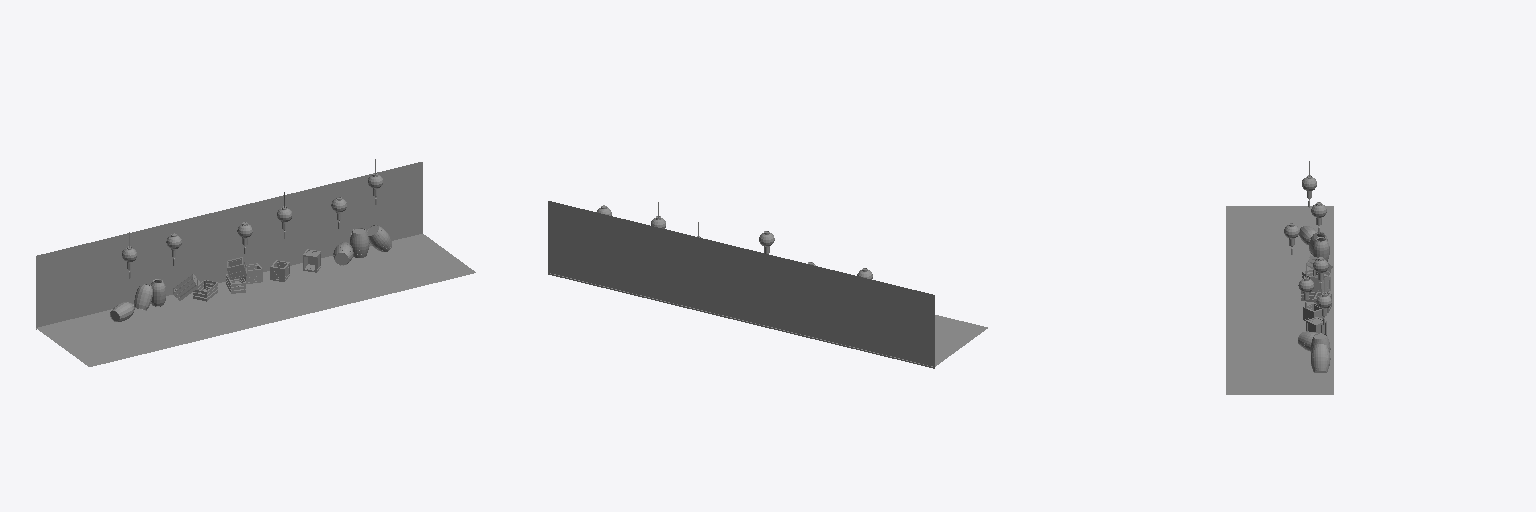
The model's file is escenario1.obj.
3 views of the same model, side by side, from view 1: azimuth 30°, elevation 25°; view 2: azimuth 150°, elevation 25°; view 3: azimuth 270°, elevation 25° (orthographic).
Visible parts, largest first — view 1: pPlane1, pPlane2; view 2: pPlane1, pPlane2; view 3: pPlane2.
Boxes of the visible parts, box(x1,y1,x2,y2) form: pPlane1: box(36, 162, 422, 329); pPlane2: box(36, 234, 475, 366); pPlane1: box(548, 201, 934, 368); pPlane2: box(550, 273, 987, 366); pPlane2: box(1226, 206, 1333, 394).
Bounding box in the file's own units: 107 × 24.45 × 25.9.